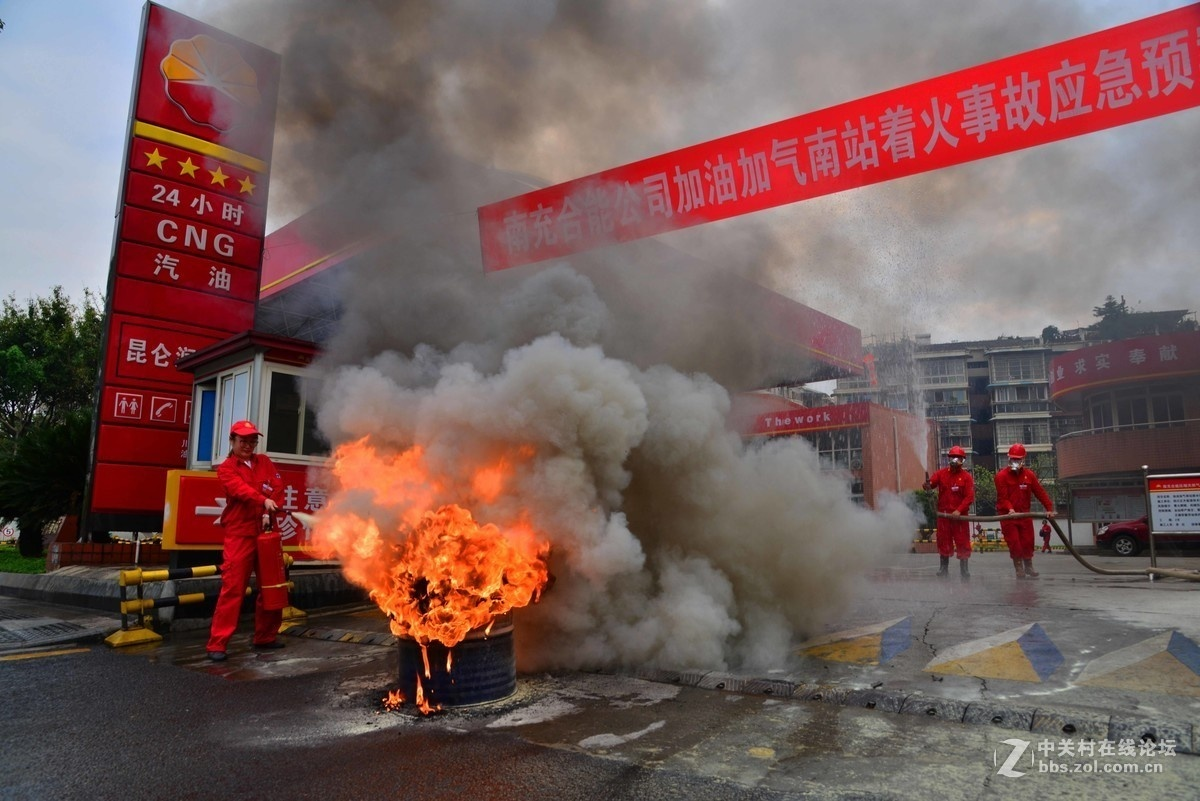fire: (305, 434, 554, 648)
